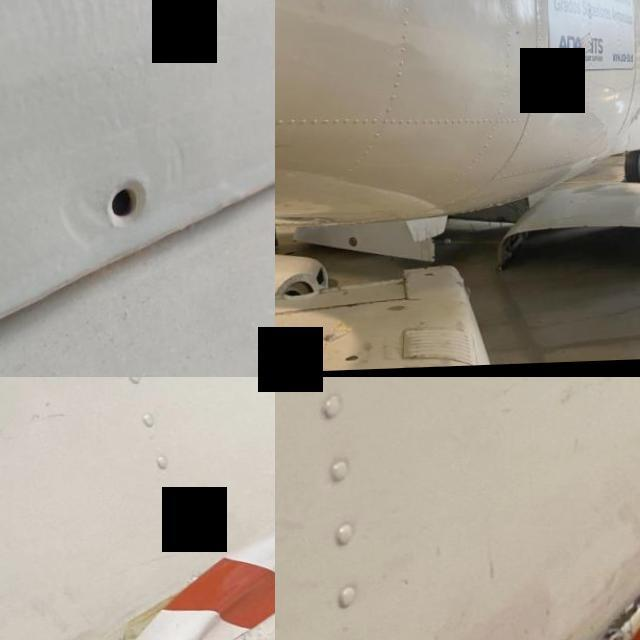Crack: (289, 531, 640, 640), (621, 132, 640, 158)
Missing_Fastener: (81, 152, 172, 245)
